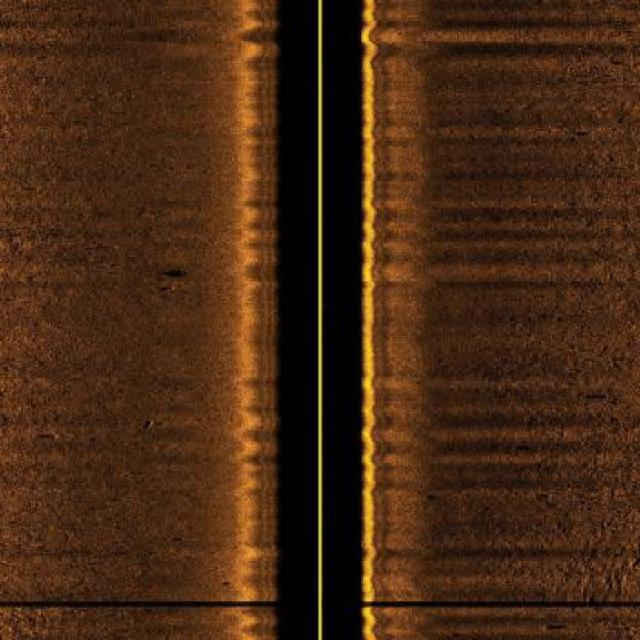mine: (142, 418, 156, 432)
